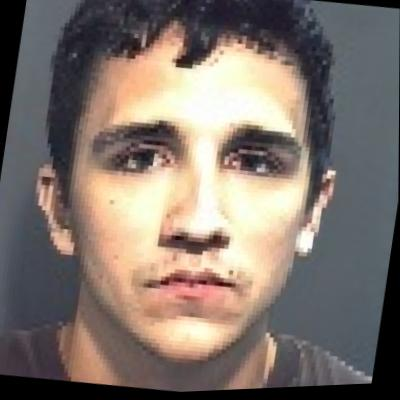sad: (50, 19, 339, 376)
